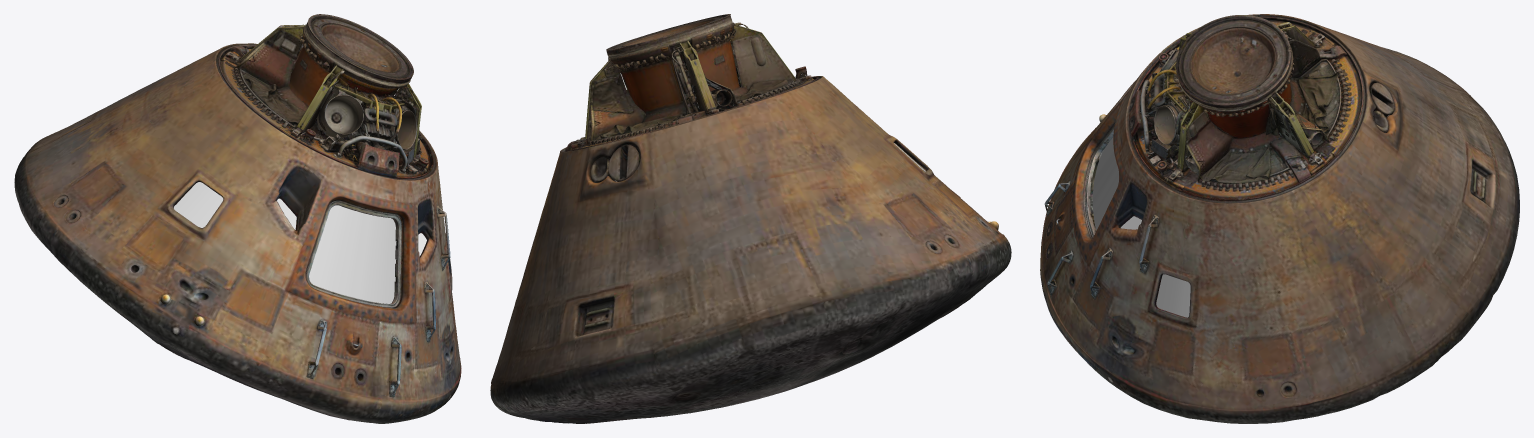
The model's file is apollo.gltf.
The picture shows the model from 3 angles, left to right: view 1: azimuth 30°, elevation 25°; view 2: azimuth 150°, elevation 25°; view 3: azimuth 270°, elevation 25°; orthographic projection. The views are drawn at different scales.
Parts seen in each view (by area): view 1: x3d-cm-exterior-shell-90k-uvs-150k-unwrapped, x3d-cm-exterior-top-160k-uvs-150k-unwrapped, x3d-cm-exterior-filler; view 2: x3d-cm-exterior-shell-90k-uvs-150k-unwrapped, x3d-cm-exterior-top-160k-uvs-150k-unwrapped; view 3: x3d-cm-exterior-shell-90k-uvs-150k-unwrapped, x3d-cm-exterior-top-160k-uvs-150k-unwrapped, x3d-cm-exterior-filler.
Boxes of the visible parts, left/top/right/bottom form: x3d-cm-exterior-shell-90k-uvs-150k-unwrapped: left=14, top=43, right=461, bottom=423; x3d-cm-exterior-top-160k-uvs-150k-unwrapped: left=217, top=14, right=434, bottom=180; x3d-cm-exterior-filler: left=174, top=182, right=426, bottom=303; x3d-cm-exterior-shell-90k-uvs-150k-unwrapped: left=490, top=76, right=1011, bottom=423; x3d-cm-exterior-top-160k-uvs-150k-unwrapped: left=564, top=14, right=819, bottom=151; x3d-cm-exterior-shell-90k-uvs-150k-unwrapped: left=1040, top=14, right=1519, bottom=423; x3d-cm-exterior-top-160k-uvs-150k-unwrapped: left=1128, top=15, right=1365, bottom=203; x3d-cm-exterior-filler: left=1092, top=137, right=1190, bottom=317.
Size of the model in its own units: 359 by 314 by 387.
Materials: 3 (2 with a texture image).
